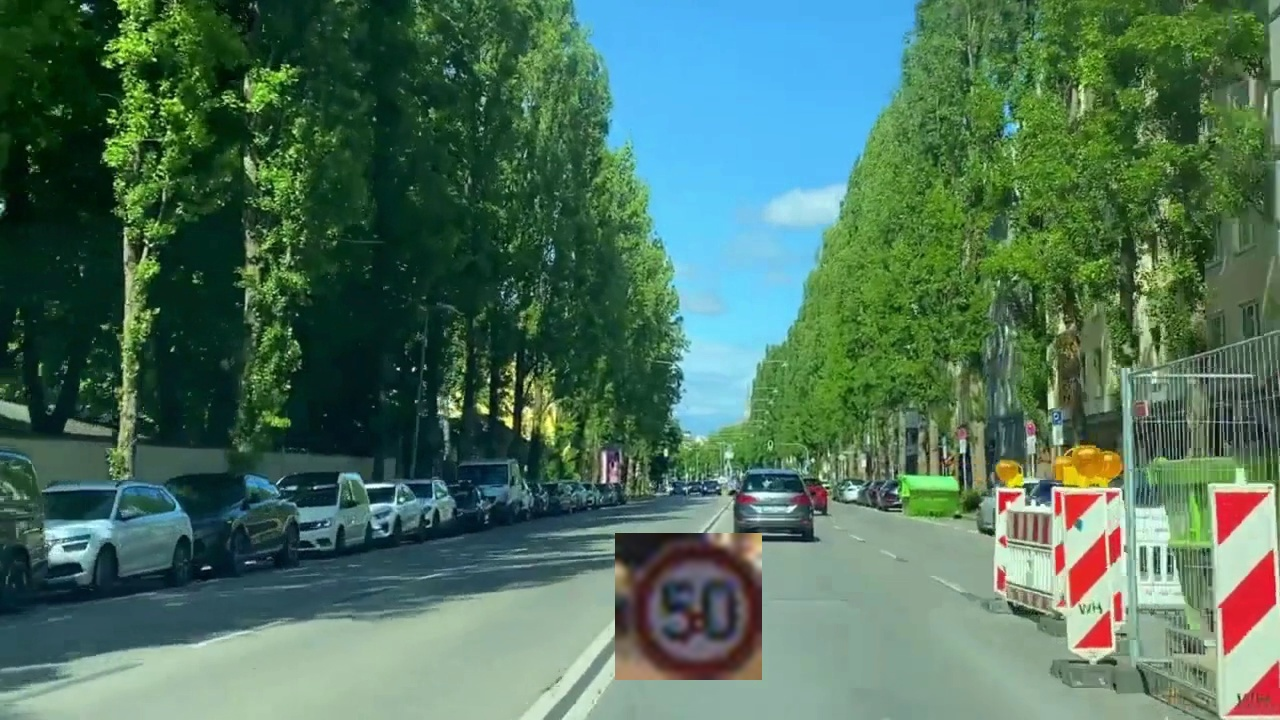Speed 50: (615, 533, 762, 680)
